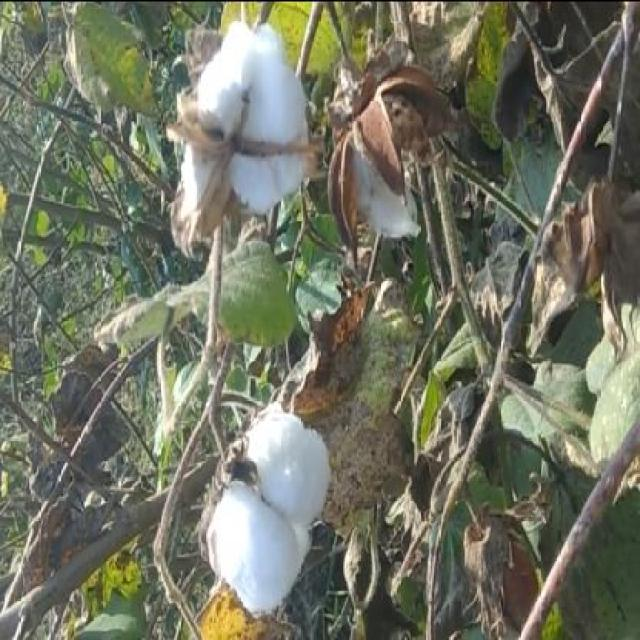cotton_ready: (165, 21, 332, 248), (192, 396, 336, 612)
